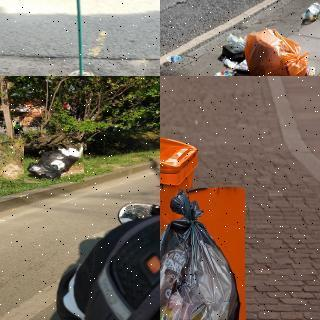Garbage: (160, 188, 246, 320), (244, 24, 313, 76), (24, 144, 85, 182)
